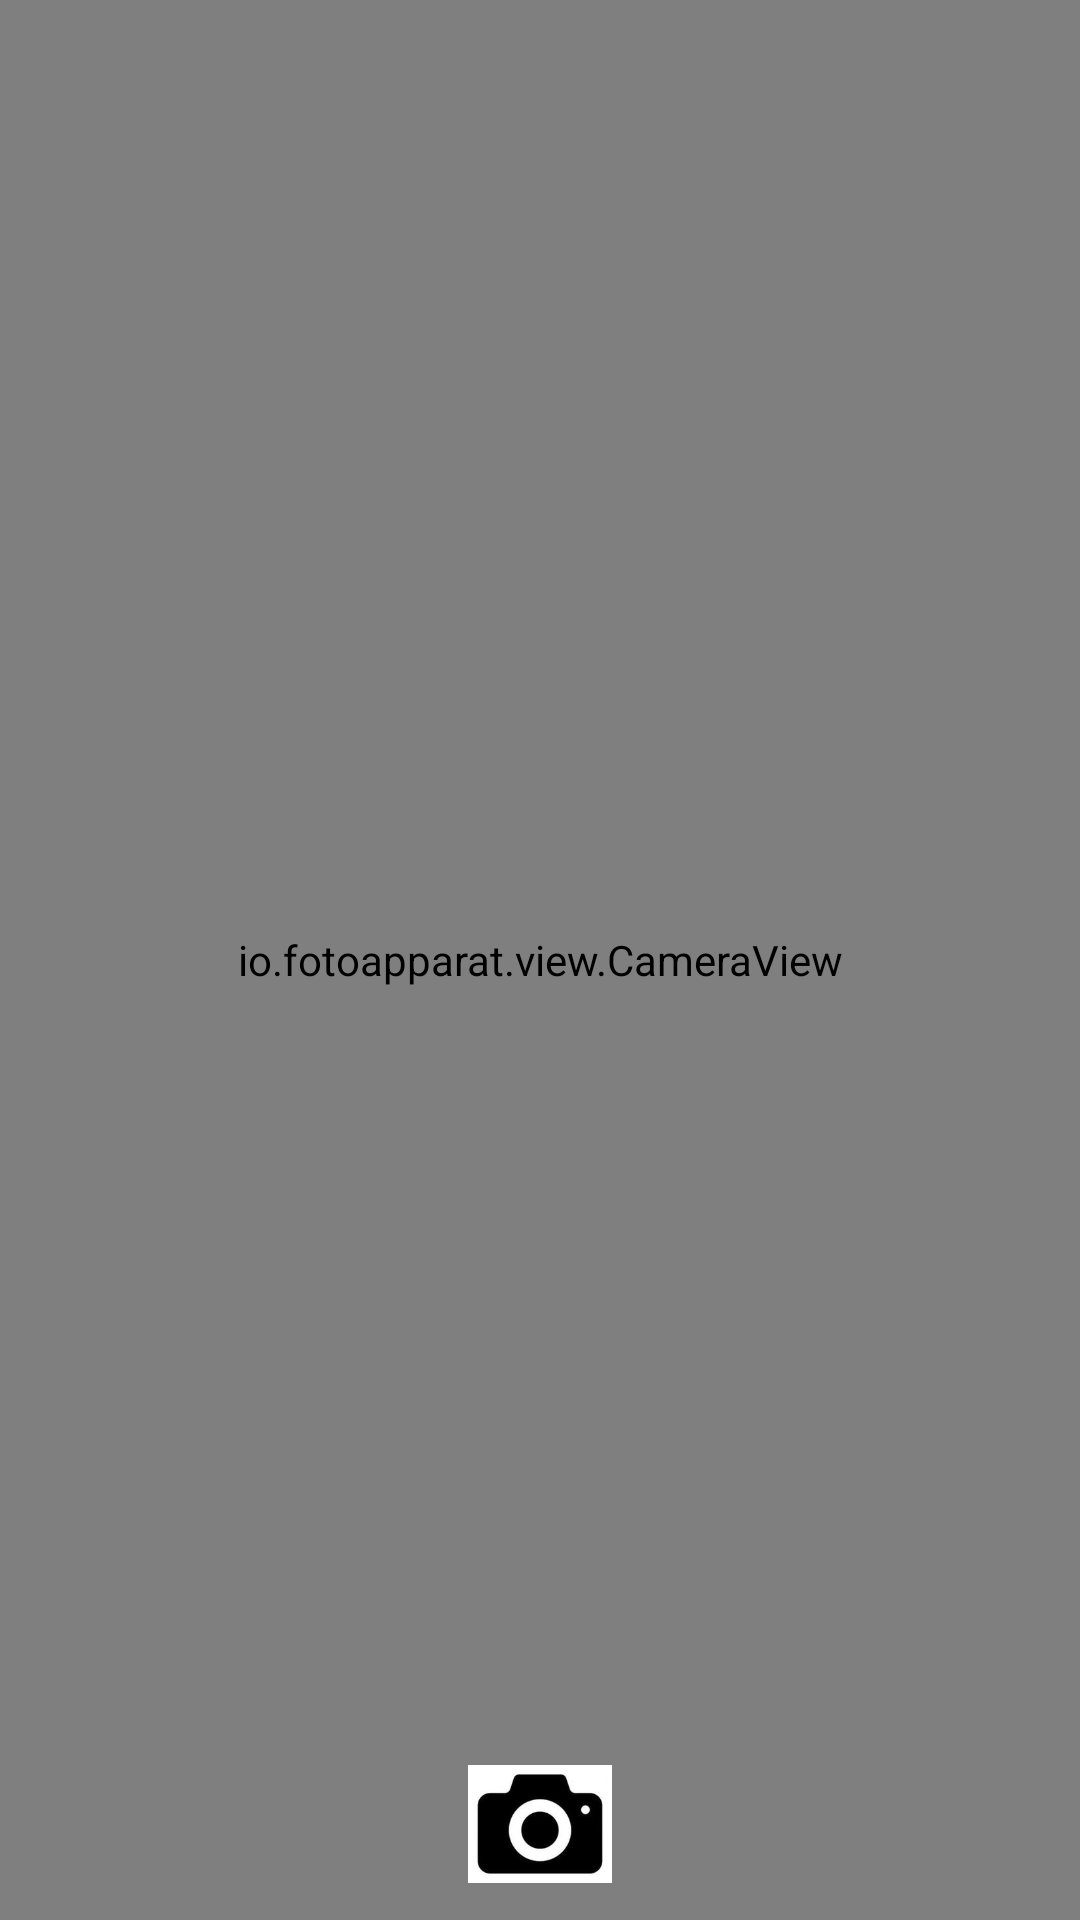

Named icons in this screenshot (1080 x 1920) and their bounding boxes, {"x1": x1, "y1": y1, "x2": x2, "y2": y2}:
take shoot: {"x1": 468, "y1": 1765, "x2": 612, "y2": 1883}
